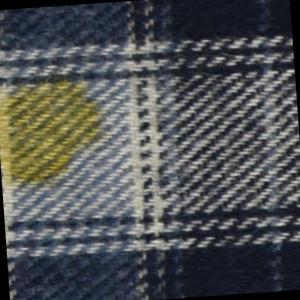Stain: (1, 68, 112, 191)
